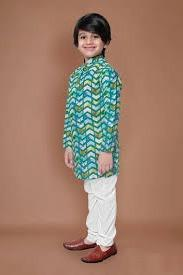Human: (60, 11, 120, 266)
